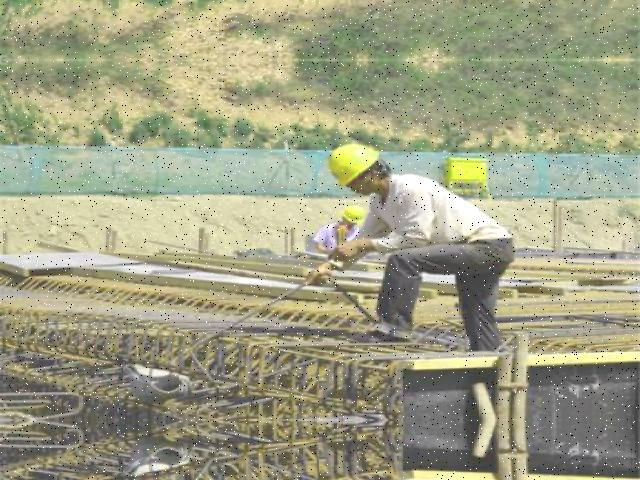Helmet: (326, 138, 385, 188), (338, 200, 372, 226)
